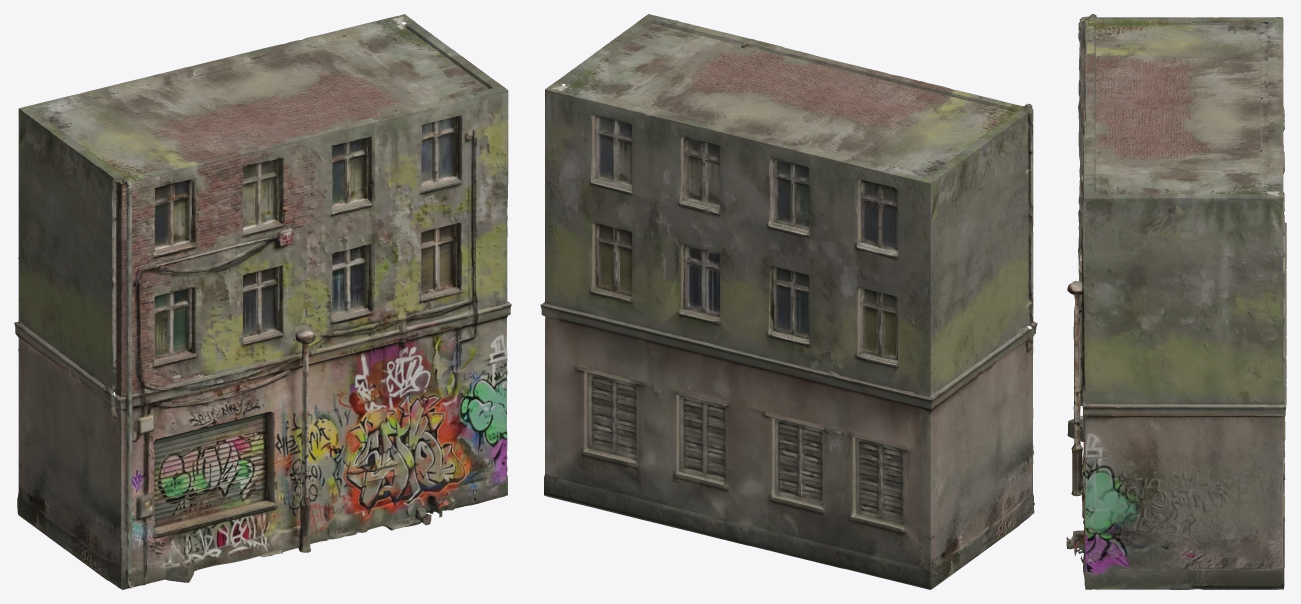
Rendered from building_3.glb.
3 renders of one model, left to right at view 1: azimuth 30°, elevation 25°; view 2: azimuth 150°, elevation 25°; view 3: azimuth 270°, elevation 25°, orthographic. The views are drawn at different scales.
Parts seen in each view (by area): view 1: Building_3; view 2: Building_3; view 3: Building_3.
Boxes of the visible parts, x1=… form: Building_3: x1=14, y1=14, x2=511, y2=589; Building_3: x1=540, y1=14, x2=1037, y2=589; Building_3: x1=1066, y1=14, x2=1286, y2=589.
Bounding box in the file's own units: 0.6918 × 0.6891 × 0.348.
1 material, 1 textured.
